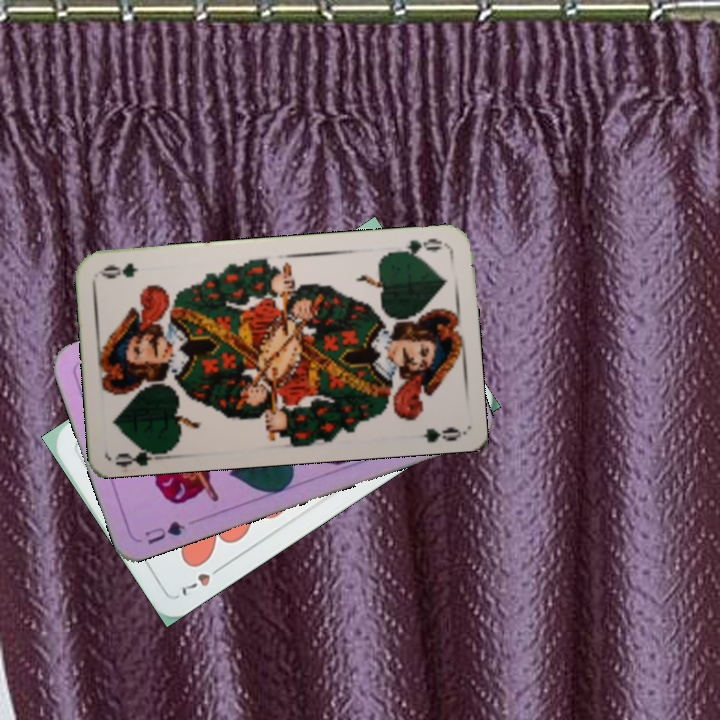GO: (113, 440, 172, 468), (389, 234, 447, 260)
GU: (141, 517, 188, 547)
H7: (177, 561, 227, 599)
